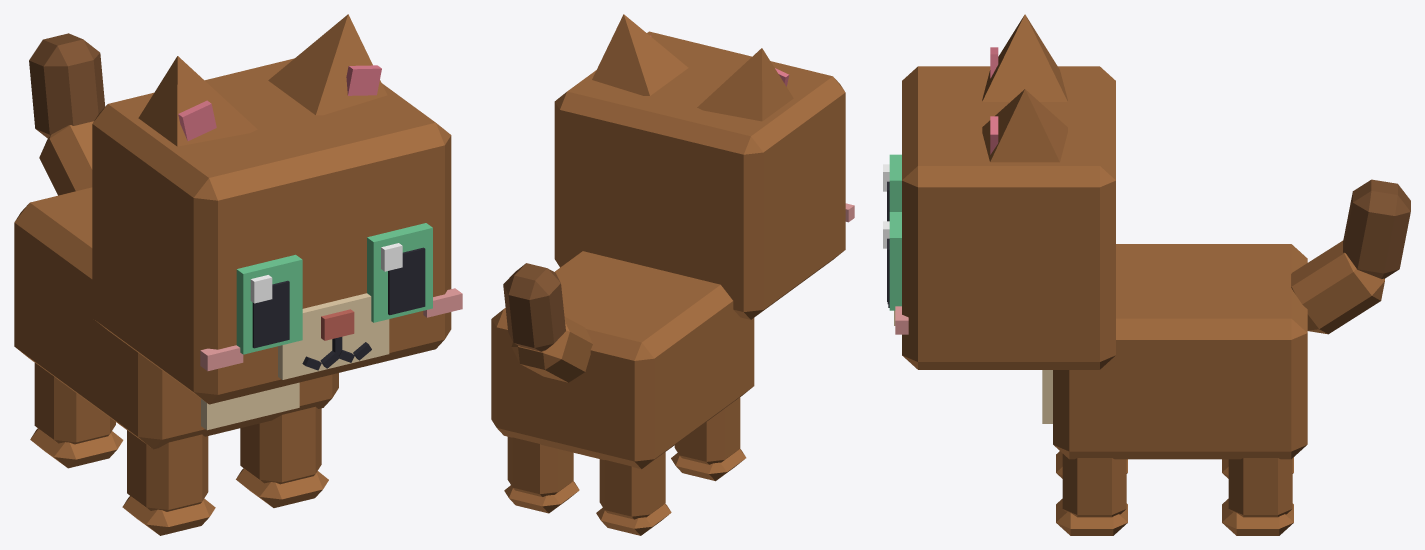
Rendered from CatCafe_Cat_Acorn.glb.
The picture shows the model from 3 angles, left to right: view 1: azimuth 30°, elevation 25°; view 2: azimuth 150°, elevation 25°; view 3: azimuth 270°, elevation 25°; orthographic projection. The views are drawn at different scales.
Parts seen in each view (by area): view 1: CatCafe_Cat_Acorn_Head, CatCafe_Cat_Acorn_Body, CatCafe_Cat_Acorn_Tail, CatCafe_Cat_Acorn_LegF2, CatCafe_Cat_Acorn_LegF1, CatCafe_Cat_Acorn_EarL, CatCafe_Cat_Acorn_Eye2, CatCafe_Cat_Acorn_LegB2, CatCafe_Cat_Acorn_Eye1, CatCafe_Cat_Acorn_EarR; view 2: CatCafe_Cat_Acorn_Head, CatCafe_Cat_Acorn_Body, CatCafe_Cat_Acorn_Tail, CatCafe_Cat_Acorn_LegB2, CatCafe_Cat_Acorn_EarL, CatCafe_Cat_Acorn_LegB1, CatCafe_Cat_Acorn_EarR, CatCafe_Cat_Acorn_LegF2; view 3: CatCafe_Cat_Acorn_Head, CatCafe_Cat_Acorn_Body, CatCafe_Cat_Acorn_Tail, CatCafe_Cat_Acorn_LegF1, CatCafe_Cat_Acorn_LegB1, CatCafe_Cat_Acorn_EarL, CatCafe_Cat_Acorn_EarR, CatCafe_Cat_Acorn_Eye1, CatCafe_Cat_Acorn_Eye2.
Boxes of the visible parts, x1,y1,x2,y2 form: CatCafe_Cat_Acorn_Head: [92, 58, 462, 404]; CatCafe_Cat_Acorn_Body: [14, 187, 338, 449]; CatCafe_Cat_Acorn_Tail: [29, 33, 105, 195]; CatCafe_Cat_Acorn_LegF2: [122, 430, 215, 535]; CatCafe_Cat_Acorn_LegF1: [236, 406, 328, 507]; CatCafe_Cat_Acorn_EarL: [268, 14, 387, 115]; CatCafe_Cat_Acorn_Eye2: [236, 254, 302, 354]; CatCafe_Cat_Acorn_LegB2: [30, 362, 123, 468]; CatCafe_Cat_Acorn_Eye1: [367, 223, 432, 322]; CatCafe_Cat_Acorn_EarR: [138, 56, 257, 146]; CatCafe_Cat_Acorn_Head: [554, 31, 854, 319]; CatCafe_Cat_Acorn_Body: [491, 251, 754, 469]; CatCafe_Cat_Acorn_Tail: [503, 263, 592, 382]; CatCafe_Cat_Acorn_LegB2: [596, 452, 671, 535]; CatCafe_Cat_Acorn_EarL: [592, 14, 688, 95]; CatCafe_Cat_Acorn_LegB1: [504, 437, 579, 513]; CatCafe_Cat_Acorn_EarR: [697, 48, 793, 121]; CatCafe_Cat_Acorn_LegF2: [671, 397, 746, 481]; CatCafe_Cat_Acorn_Head: [887, 66, 1115, 369]; CatCafe_Cat_Acorn_Body: [1042, 244, 1307, 459]; CatCafe_Cat_Acorn_Tail: [1291, 179, 1410, 334]; CatCafe_Cat_Acorn_LegF1: [1056, 454, 1127, 535]; CatCafe_Cat_Acorn_LegB1: [1222, 458, 1293, 535]; CatCafe_Cat_Acorn_EarL: [982, 89, 1067, 162]; CatCafe_Cat_Acorn_EarR: [982, 14, 1067, 101]; CatCafe_Cat_Acorn_Eye1: [883, 212, 901, 310]; CatCafe_Cat_Acorn_Eye2: [883, 154, 901, 221].
Bounding box in the file's own units: 1 × 1.86 × 1.97.
1 material, 1 textured.
